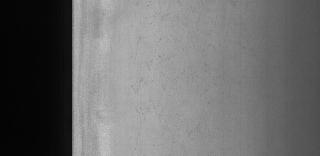silk spot: (129, 9, 207, 123)
